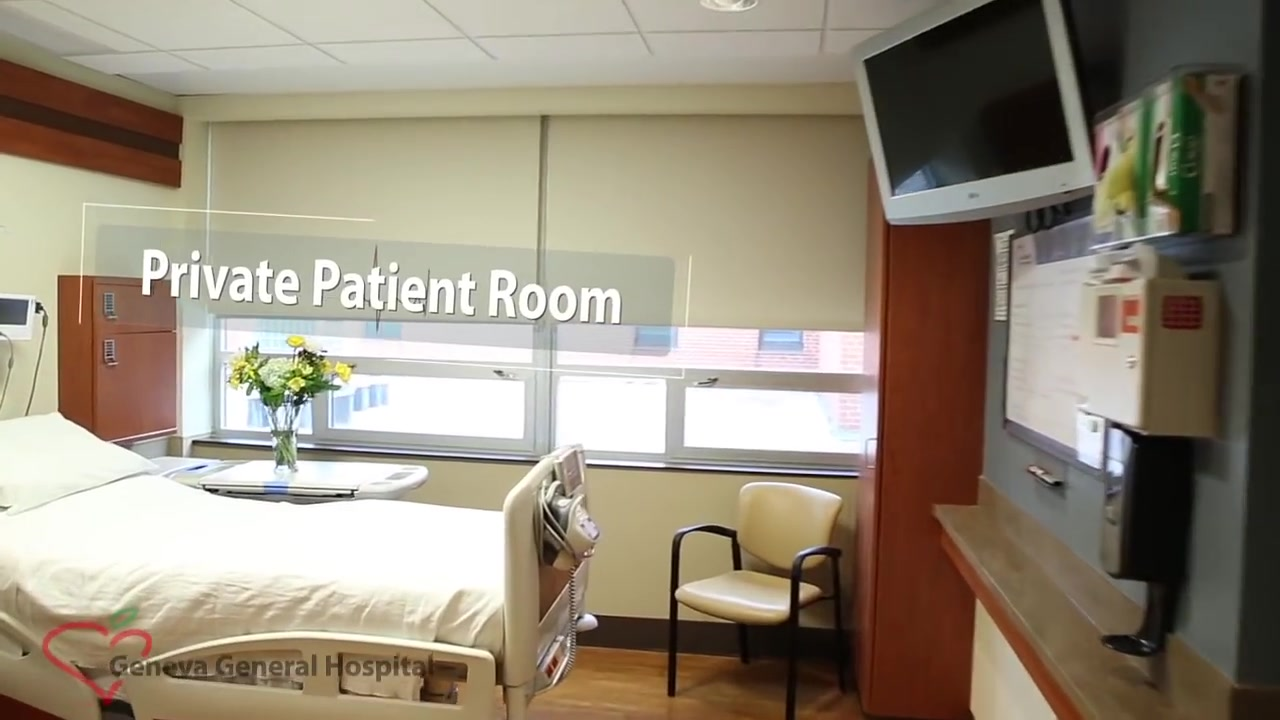TV: (849, 3, 1099, 228)
bedrail: (118, 633, 497, 720), (1, 606, 106, 720)
bedside_monitor: (1, 292, 38, 341)
cabinet: (57, 277, 181, 439)
chair: (669, 481, 850, 720)
countertop: (926, 503, 1192, 720)
dispenser: (1100, 423, 1201, 663)
handle: (861, 435, 880, 472), (695, 372, 718, 388), (487, 367, 509, 382)
hospital_bed: (1, 413, 596, 720)
medical_waste_container: (1080, 284, 1228, 483)
overbed_table: (136, 457, 430, 504)
sequential_compression: (536, 486, 599, 569)
